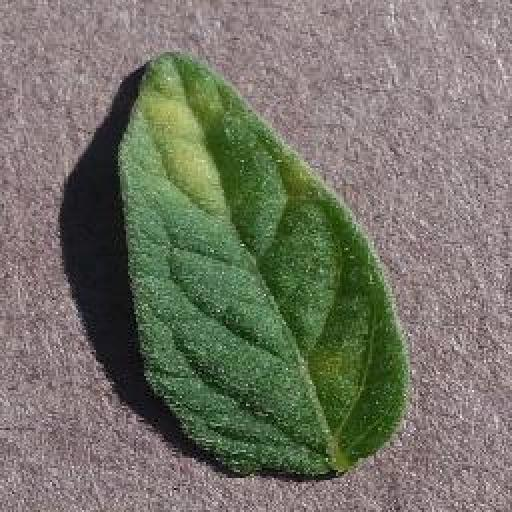disease_tomato: (121, 48, 412, 480)
